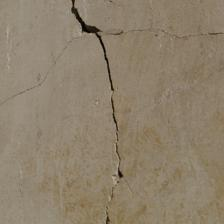Crack: (71, 4, 128, 223), (4, 33, 85, 106), (105, 23, 223, 45)
